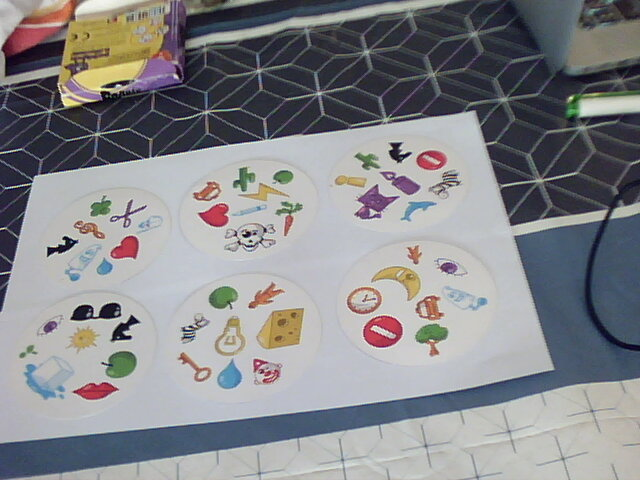ampoule: (209, 314, 249, 356)
arbre: (413, 320, 450, 359)
bonhomme: (244, 279, 290, 313), (401, 239, 425, 269)
bonhomme_neige: (135, 212, 166, 236)
bouche: (69, 376, 121, 405)
bougie: (372, 168, 423, 197)
cactus: (352, 147, 384, 176), (229, 164, 257, 193)
carotte: (275, 198, 307, 238)
chat: (352, 183, 403, 223)
cheval: (379, 136, 414, 170), (108, 314, 143, 344), (43, 233, 80, 258)
ciseau: (108, 195, 150, 228)
cle: (177, 348, 213, 387)
clown: (249, 354, 286, 386)
coeur: (192, 201, 235, 229), (111, 233, 142, 262)
crayon: (225, 201, 272, 220)
dauphin: (400, 195, 439, 227)
eclair: (237, 180, 289, 202)
fantome: (436, 281, 490, 317), (65, 241, 103, 283)
fromage: (257, 306, 307, 350)
glacon: (22, 354, 72, 401)
goutte: (216, 357, 247, 393), (92, 255, 119, 277)
horloge: (340, 284, 385, 317)
lune: (371, 263, 423, 306)
lunette: (64, 297, 125, 320)
note: (72, 217, 108, 241)
oeuil: (429, 254, 475, 279), (34, 313, 66, 338)
point_exclamation: (326, 170, 373, 194)
pomme: (96, 347, 146, 380), (205, 281, 241, 314), (268, 166, 297, 189)
sens_interdit: (363, 311, 406, 352), (414, 144, 450, 172)
soleil: (65, 326, 104, 353)
tache: (16, 341, 44, 363)
tete_mort: (218, 219, 283, 253)
trefle: (87, 189, 113, 219)
voiture: (407, 290, 447, 324), (190, 177, 227, 206)
zebre: (428, 169, 465, 200), (179, 313, 212, 346)
